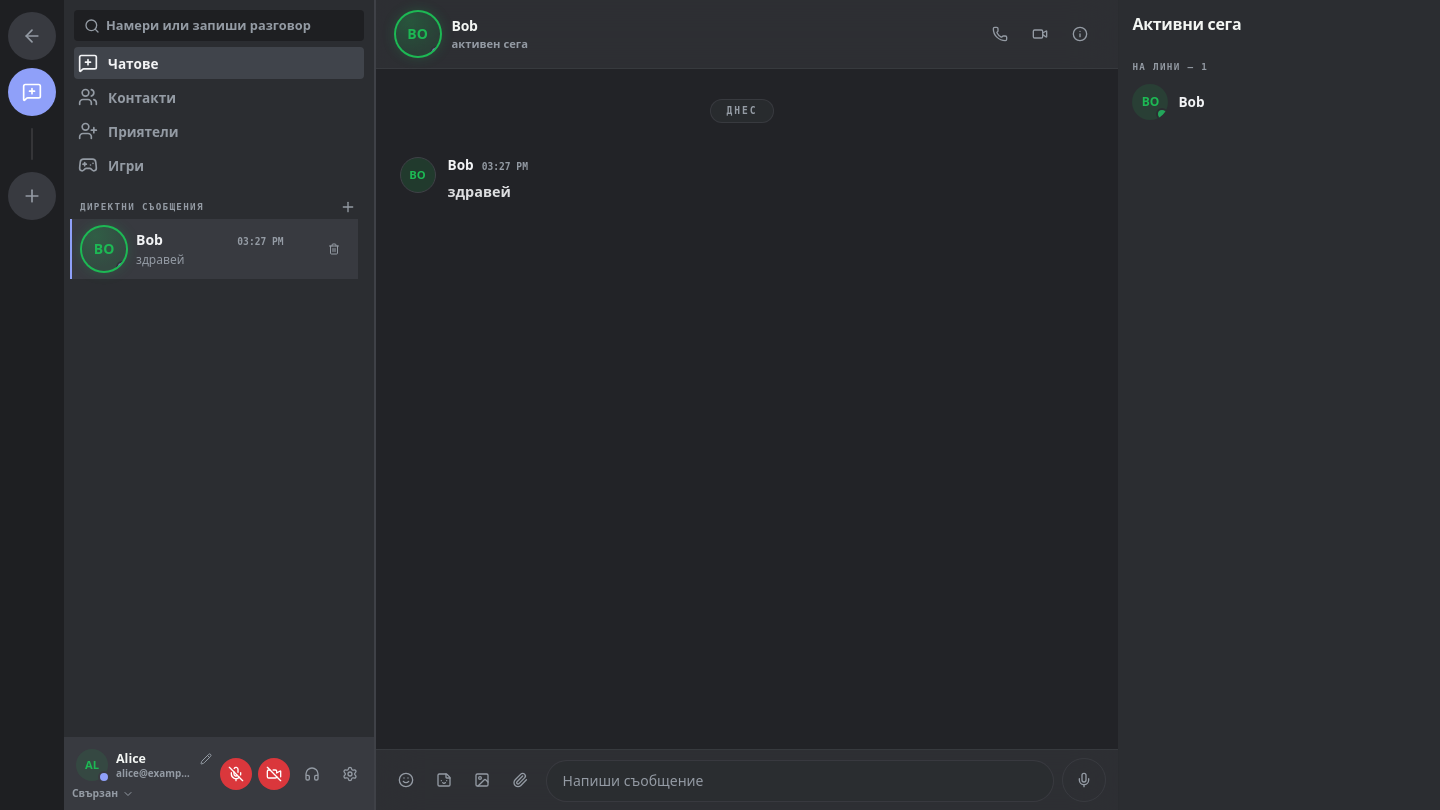
it: picking a chat theme › opens the microphone's settings rather than silencing you
What coordinates should you click on to do the following:
click the button named "Микрофон"
I would click on:
 (236, 774)
Its box is [220,758,252,790].
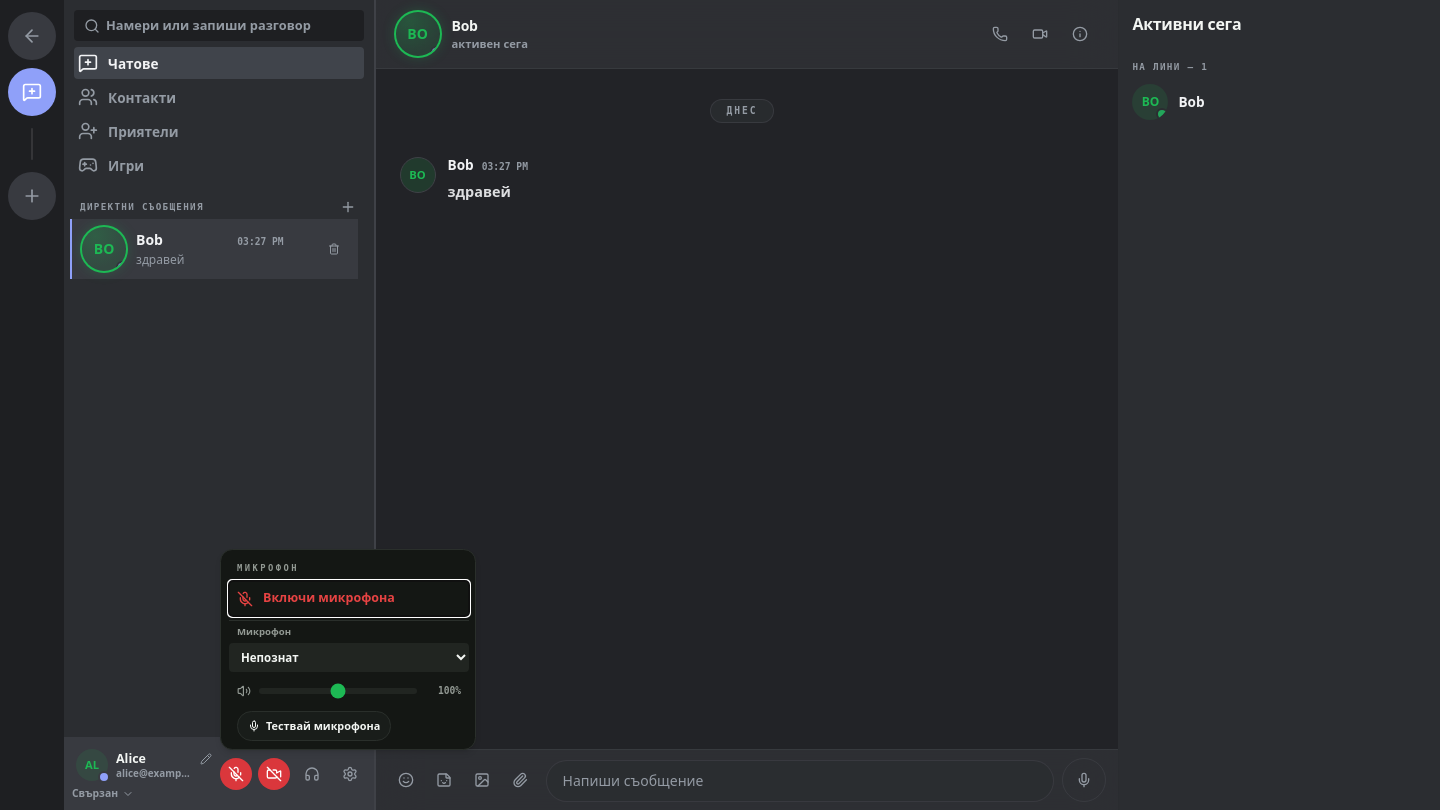
Expected: the dropdown named "Микрофон" is shown, [229,643,469,672]
Expected: the slider named "Сила на входа" is shown, [259,688,417,694]
